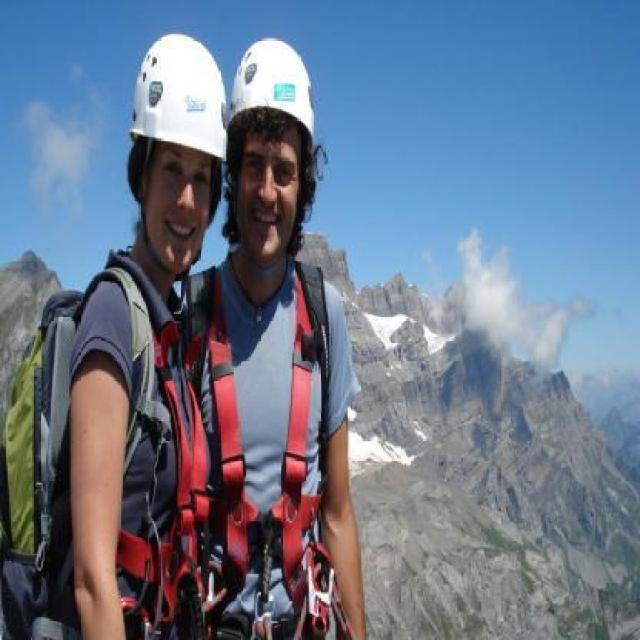backpack: (0, 283, 83, 640), (100, 266, 157, 480), (295, 263, 331, 443), (187, 266, 216, 382)
